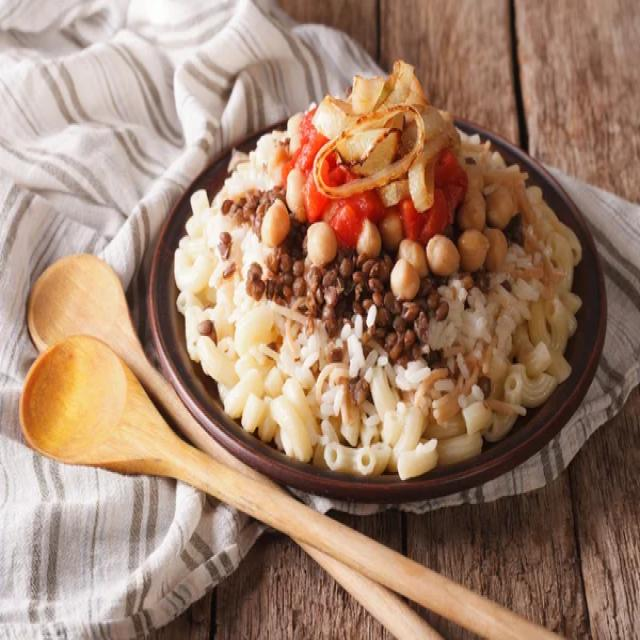koshary: (180, 72, 585, 486)
